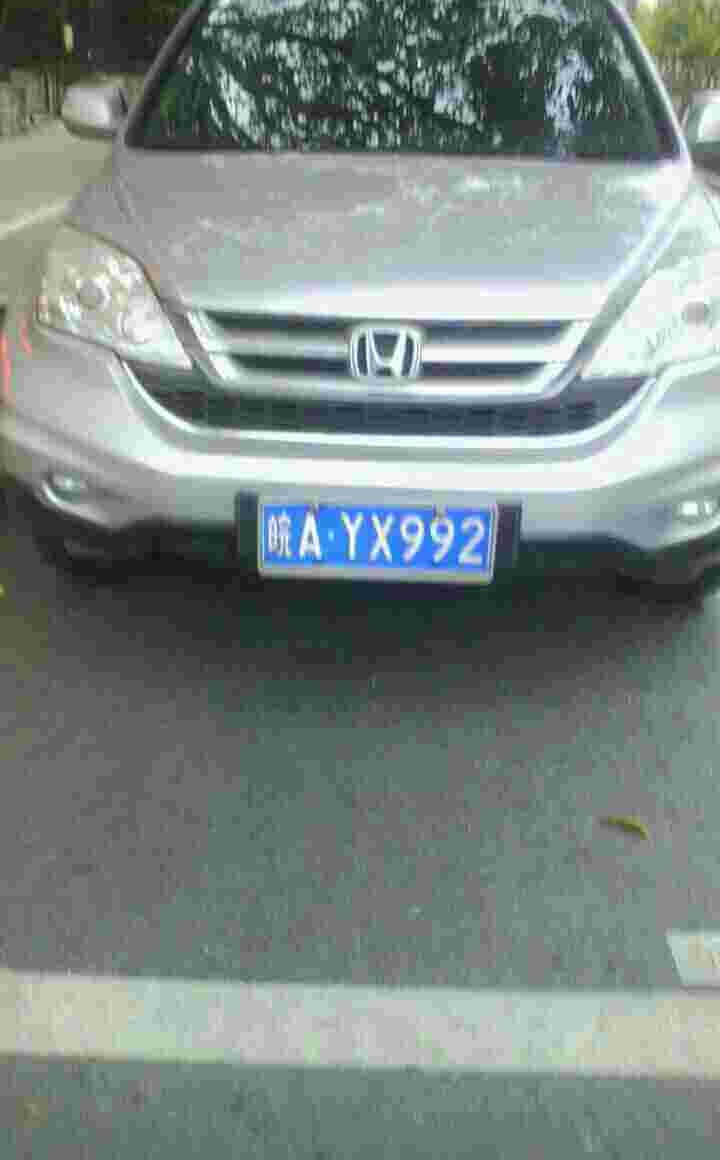license_plate: (264, 502, 514, 573)
